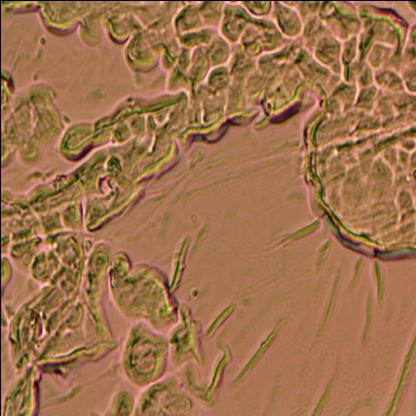Stage I: (78, 0, 416, 204), (3, 77, 207, 386), (289, 0, 416, 274)
